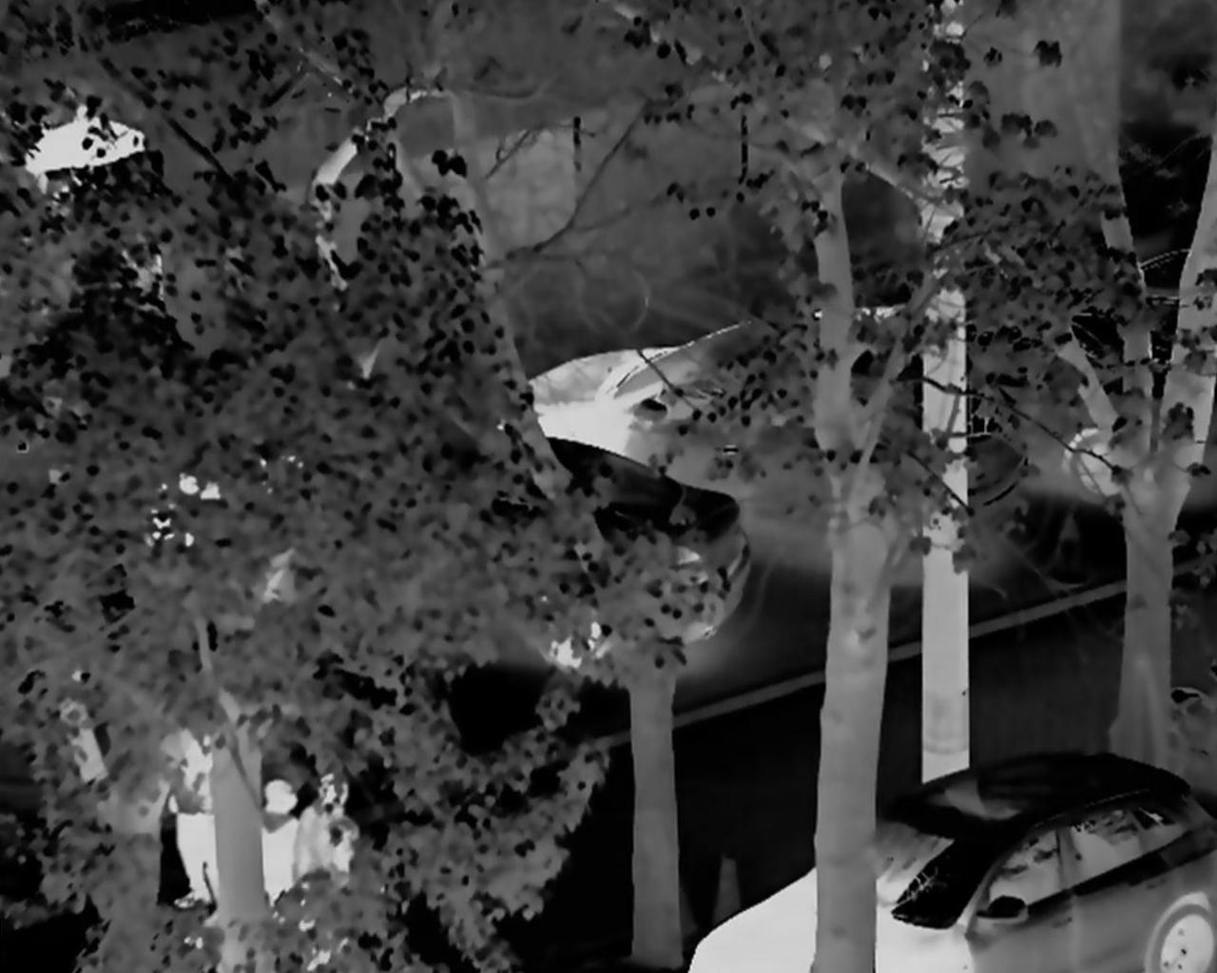person: (235, 767, 319, 973), (163, 718, 240, 917), (296, 775, 346, 967)
